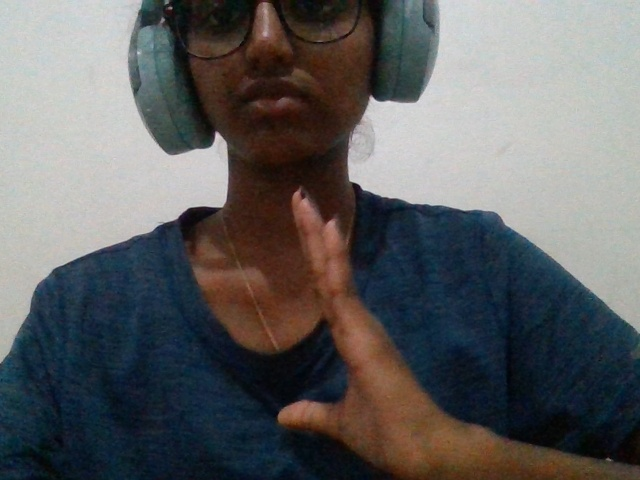Fine: (227, 156, 505, 478)
